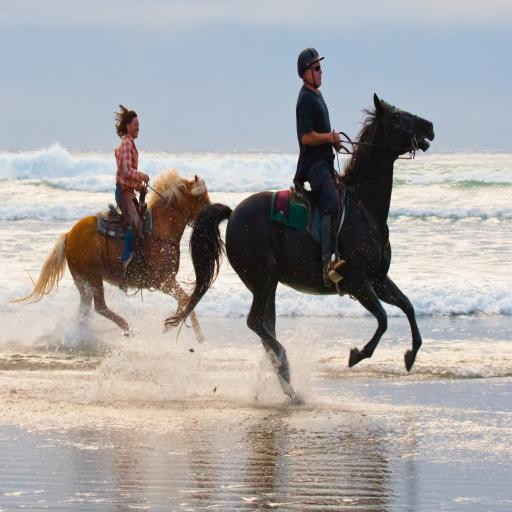horse: (162, 90, 436, 404), (2, 162, 209, 346)
